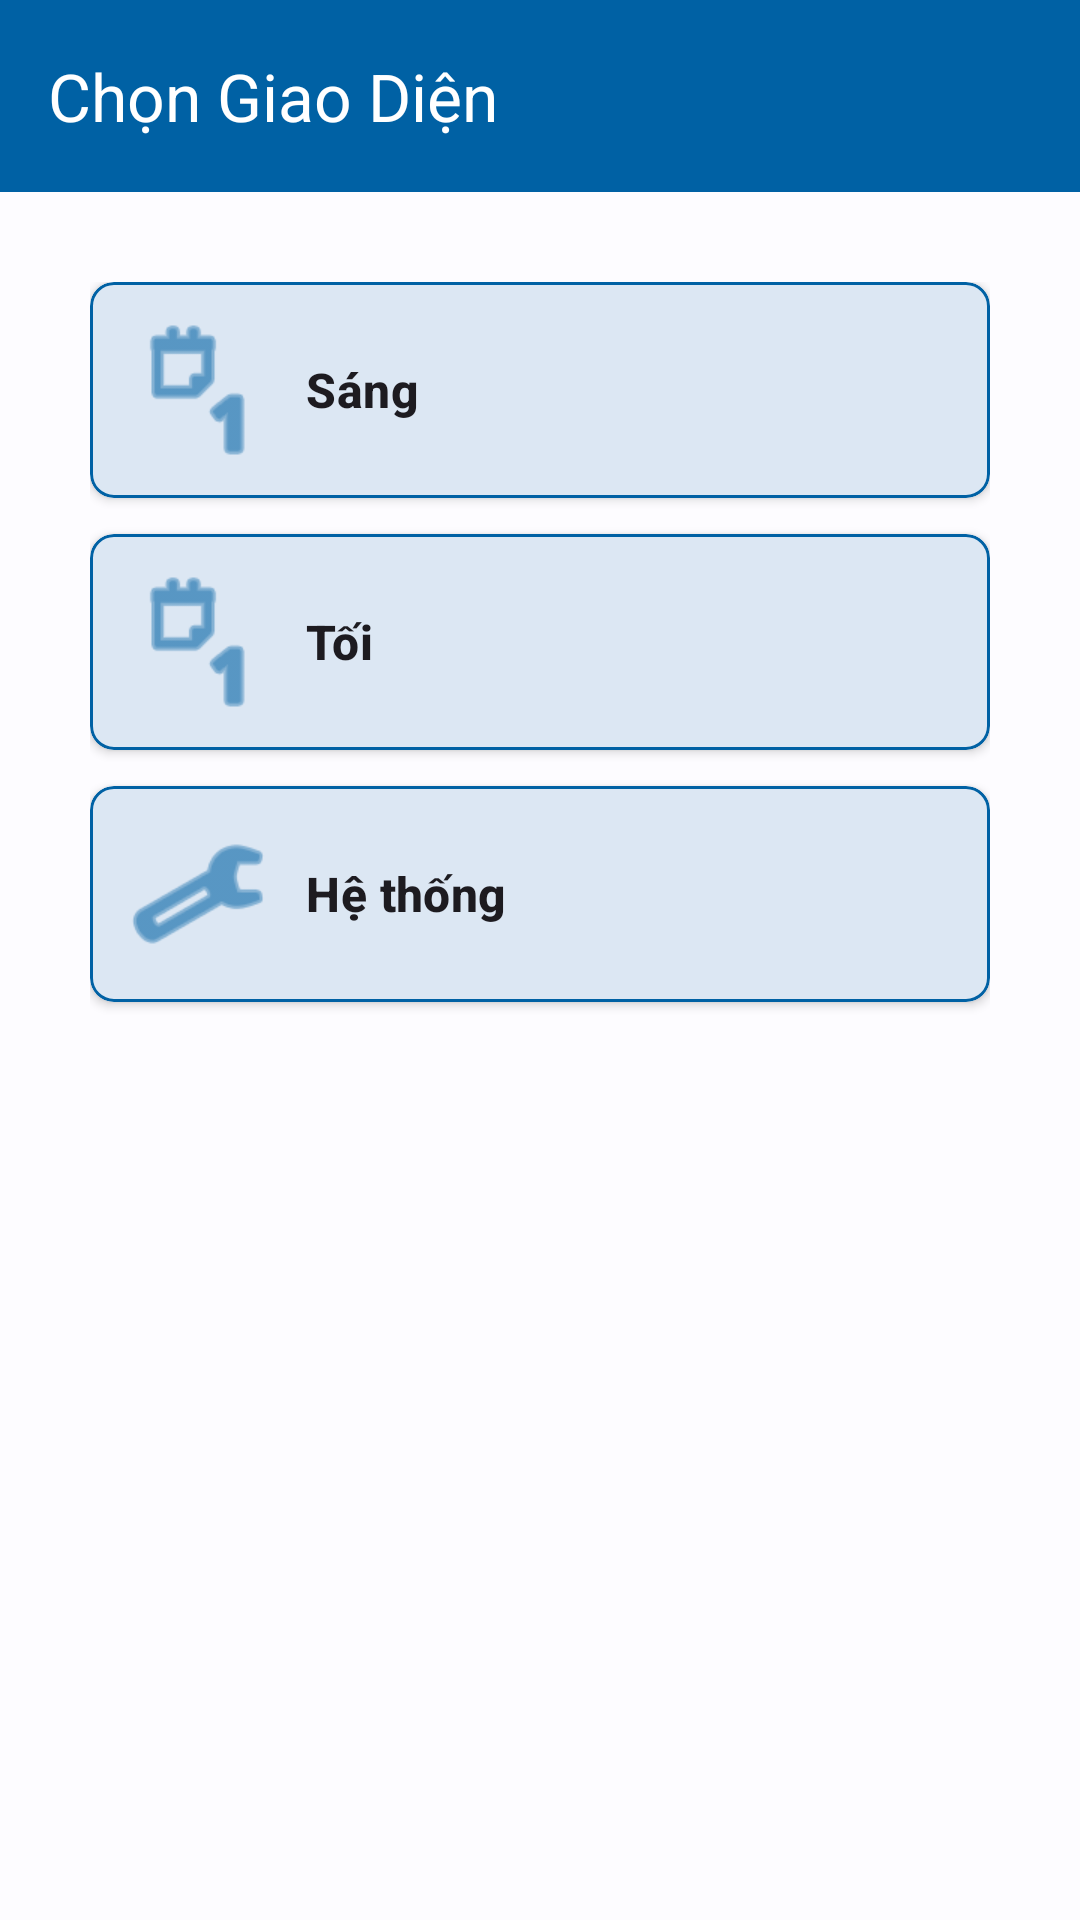

Point at icon controls on the screen. Image size 1080 x 1920, points as (x=x, y=y).
day: (x=197, y=390), (x=197, y=642)
preferences: (x=198, y=894)
